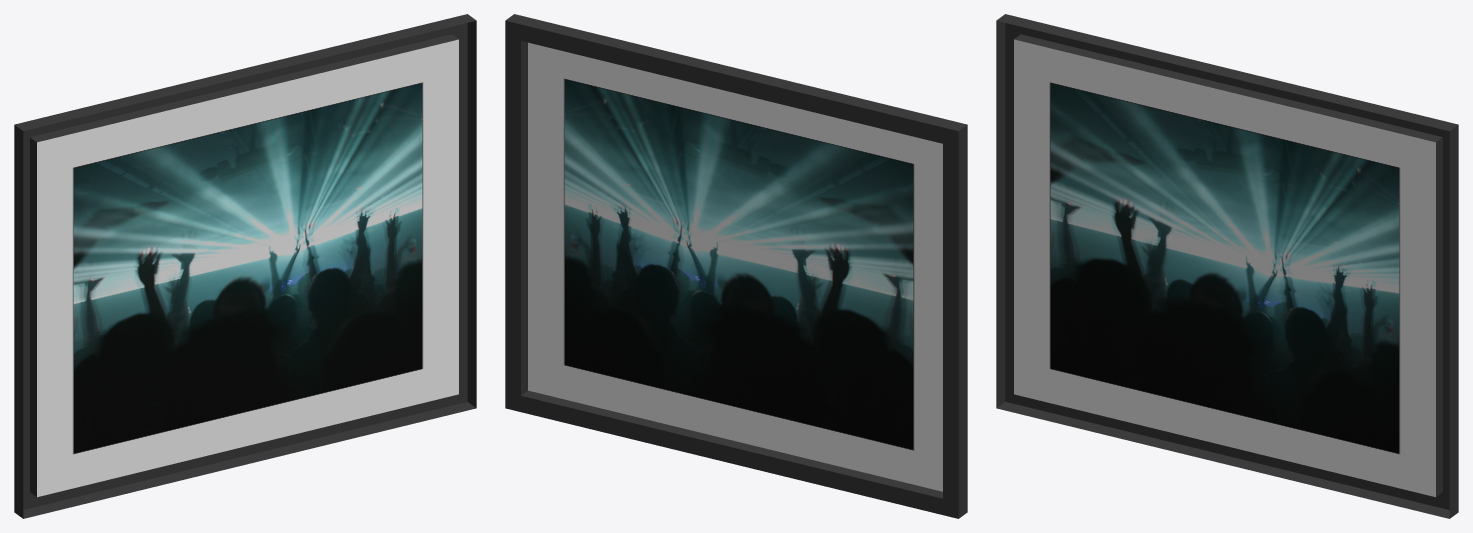
File: Picture_A.fbx
The picture shows the model from 3 angles, left to right: view 1: azimuth 30°, elevation 25°; view 2: azimuth 150°, elevation 25°; view 3: azimuth 330°, elevation 25°; orthographic projection.
Parts seen in each view (by area): view 1: Picture, Frame; view 2: Picture, Frame; view 3: Picture, Frame.
Part boxes in pixels (box(x1,y1,x2,y2)): Picture: box(37, 39, 458, 497); Frame: box(14, 14, 476, 518); Picture: box(528, 42, 942, 491); Frame: box(505, 14, 967, 518); Picture: box(1014, 39, 1435, 497); Frame: box(996, 14, 1458, 518).
Bounding box in the file's own units: 0.52 × 0.425 × 0.018.
